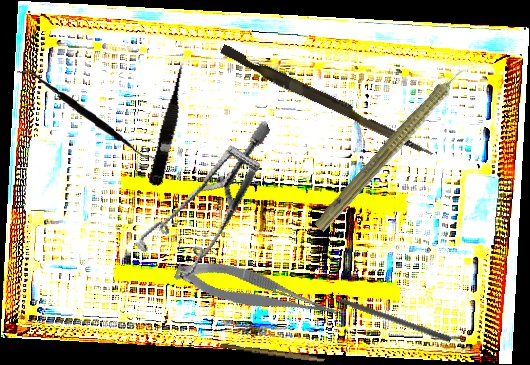Handpiece: (311, 51, 483, 239)
Micro Scissor: (172, 245, 342, 340), (147, 58, 194, 189)
Pusher: (217, 44, 438, 158), (316, 287, 453, 343)
Scalpel Handle: (219, 342, 326, 363)
Spatula Surgical: (12, 69, 160, 161)
Speculum: (110, 119, 311, 298)
